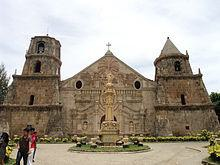miagao_church_miagao_iloilo: (4, 30, 220, 140)
